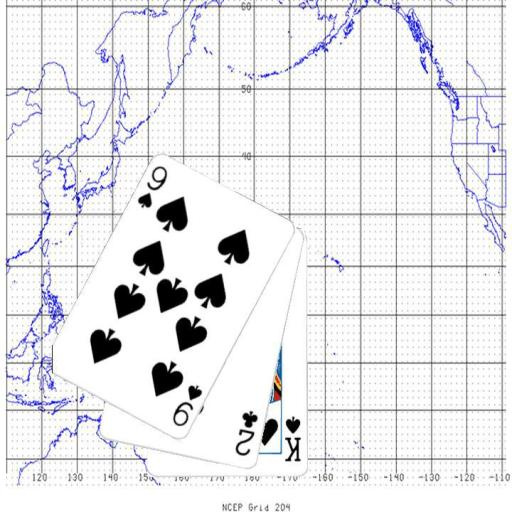2C: (232, 407, 259, 458)
9S: (169, 382, 204, 429), (135, 163, 170, 210)
KS: (282, 413, 303, 464)
